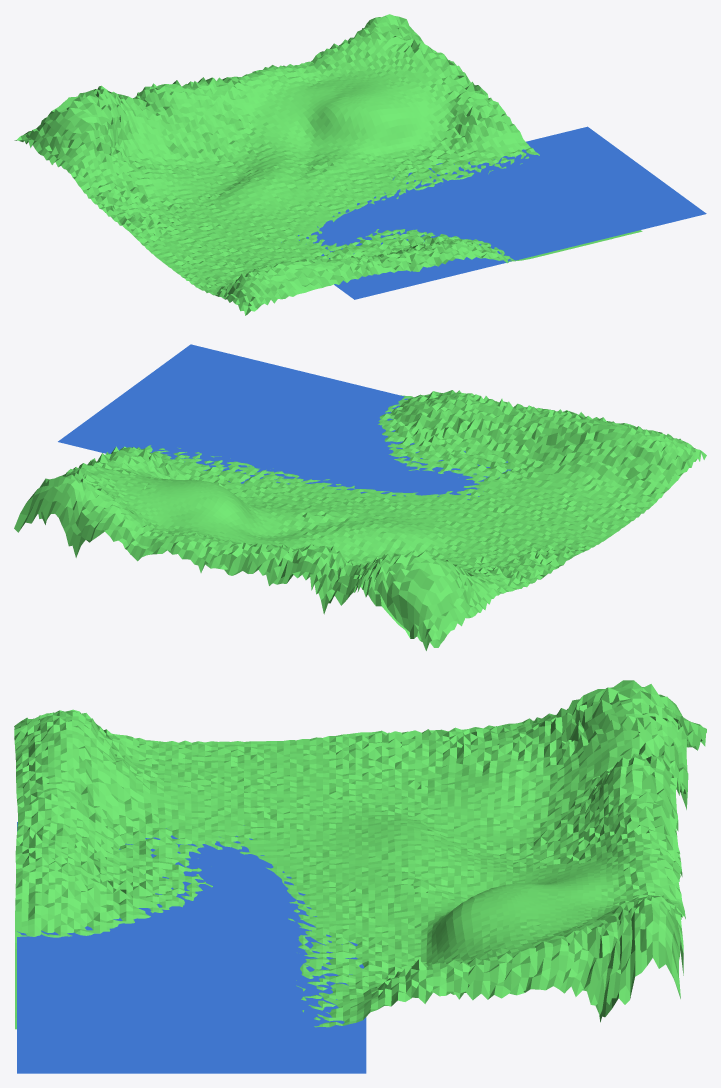
Rendered from levelOutside.glb.
3 renders of one model, top to bottom at view 1: azimuth 30°, elevation 25°; view 2: azimuth 150°, elevation 25°; view 3: azimuth 270°, elevation 25°, orthographic. The views are drawn at different scales.
Parts seen in each view (by area): view 1: Plane; view 2: Plane; view 3: Plane.
Part boxes in pixels (x1,y1,x2,y2): Plane: [14, 14, 706, 315]; Plane: [14, 344, 706, 650]; Plane: [14, 680, 706, 1073].
Size of the model in its own units: 234 by 33.38 by 207.
